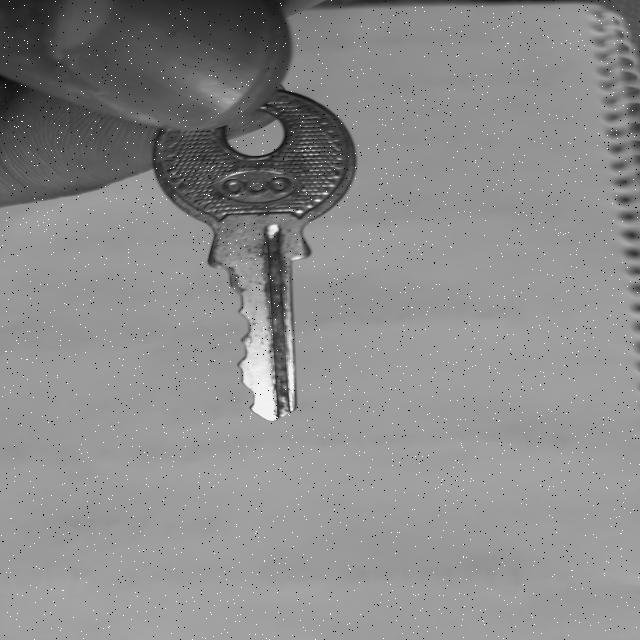key: (153, 90, 355, 421)
